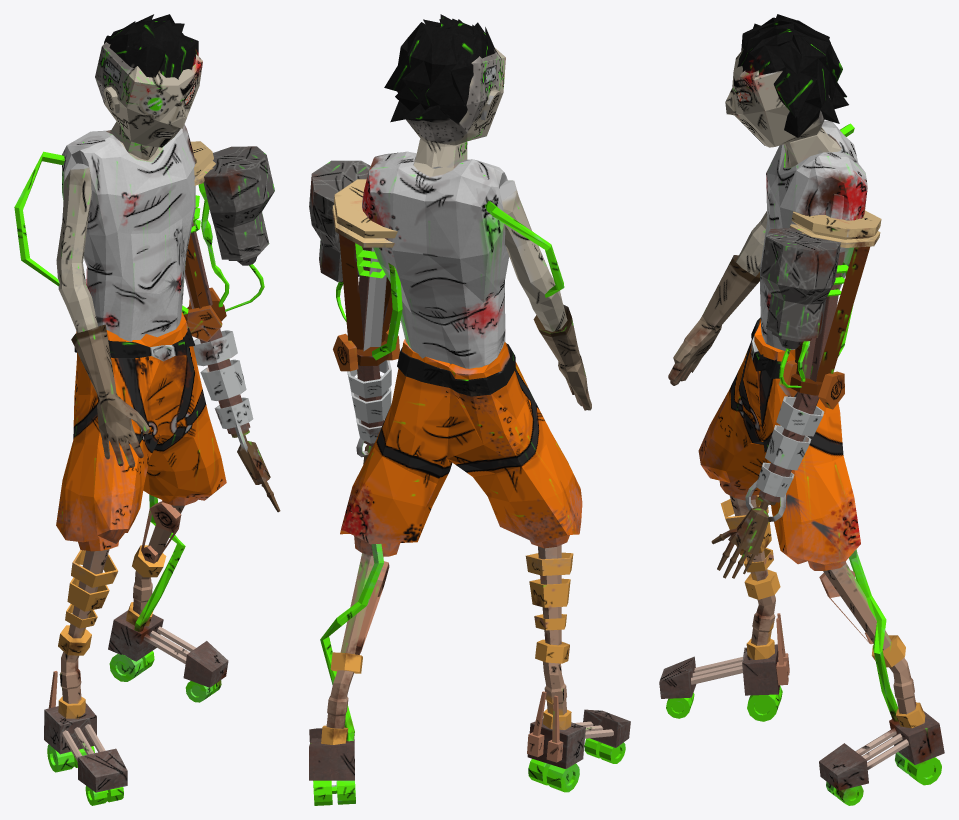
Rendered from CyborgFINALAnimation_000162.obj.
The picture shows the model from 3 angles, left to right: view 1: azimuth 30°, elevation 25°; view 2: azimuth 150°, elevation 25°; view 3: azimuth 270°, elevation 25°; orthographic projection. The views are drawn at different scales.
Parts seen in each view (by area): view 1: CyborgMesh_Cube.002; view 2: CyborgMesh_Cube.002; view 3: CyborgMesh_Cube.002.
Part boxes in pixels (x1=…): CyborgMesh_Cube.002: x1=14, y1=14, x2=280, y2=805; CyborgMesh_Cube.002: x1=309, y1=14, x2=630, y2=805; CyborgMesh_Cube.002: x1=659, y1=14, x2=944, y2=805.
Size of the model in its own units: 3.4 by 9.61 by 3.35.
